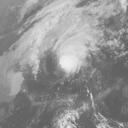cyclone: (55, 38, 88, 77)
